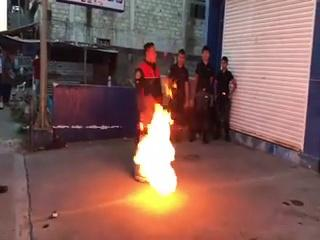Fire: (132, 104, 179, 196)
